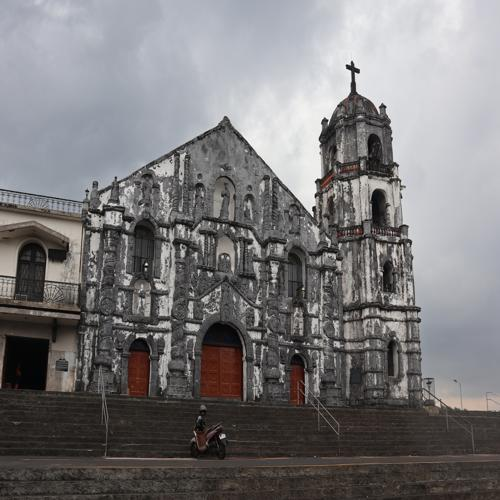Daraga Church: (81, 38, 428, 416)
